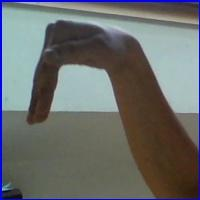A: (31, 17, 155, 139)
